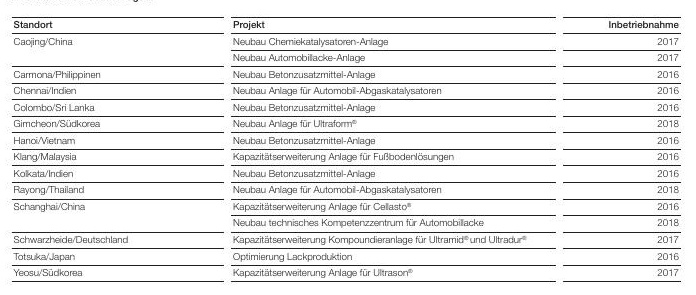table: (0, 0, 696, 295)
